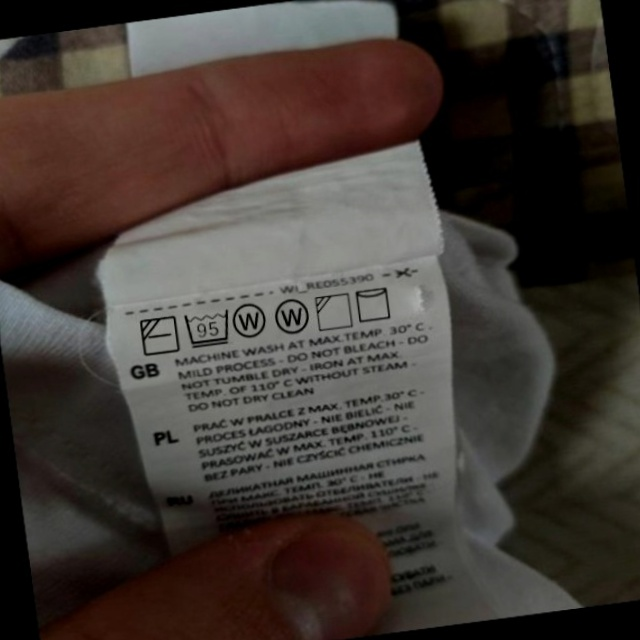95C: (182, 306, 234, 350)
dry_flat_in_shade: (137, 312, 181, 359)
line_dry: (352, 282, 396, 325)
shade_dry: (313, 290, 356, 334)
wet_clean: (272, 295, 313, 339), (231, 297, 271, 341)
